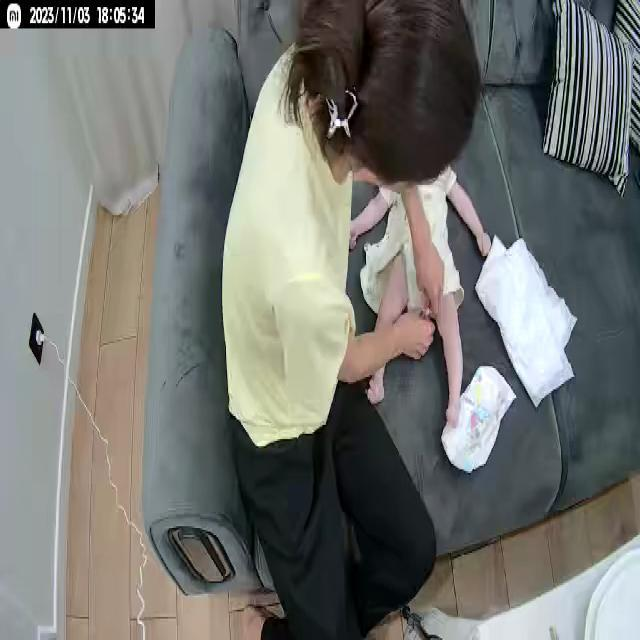baby: (348, 156, 492, 434)
